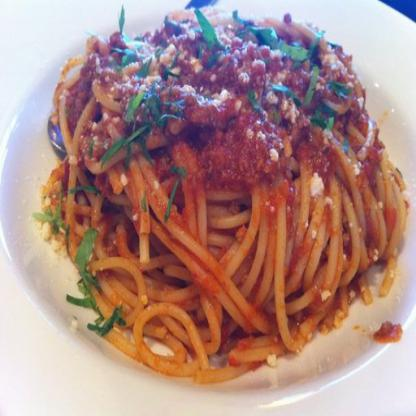pasta: (57, 6, 385, 378)
